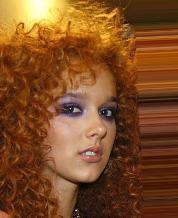face: (55, 93, 116, 161)
